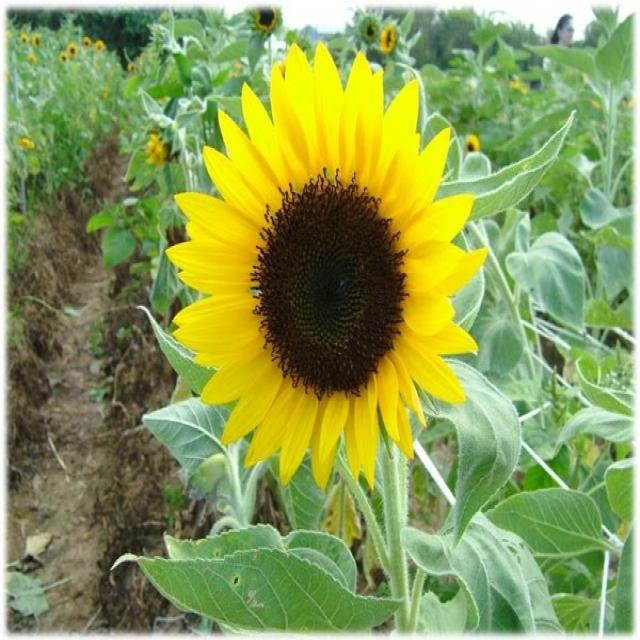sunflower: (158, 28, 496, 494)
